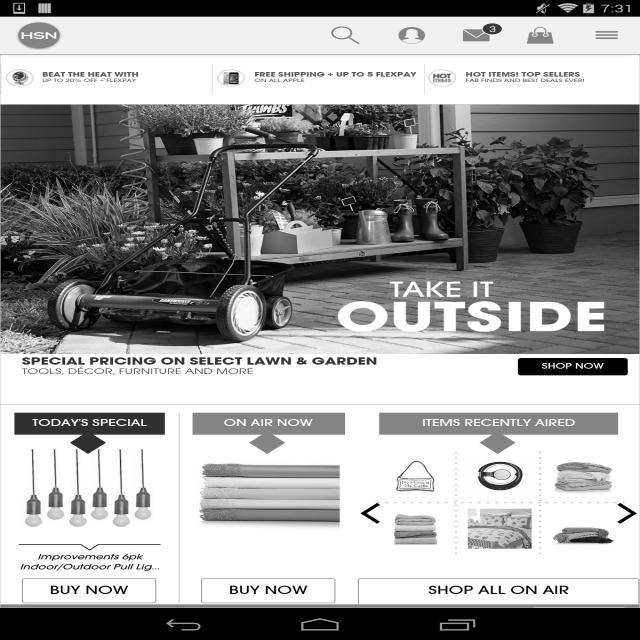ImageView: (311, 17, 380, 54), (14, 19, 64, 52), (393, 24, 430, 47), (458, 24, 495, 47), (522, 24, 559, 47)
TextView: (571, 16, 640, 54), (482, 23, 503, 35)
